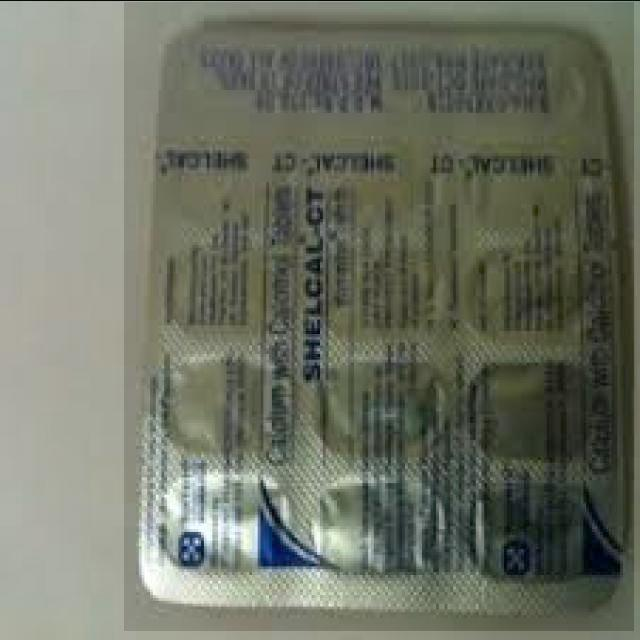authentic: (124, 1, 634, 630)
